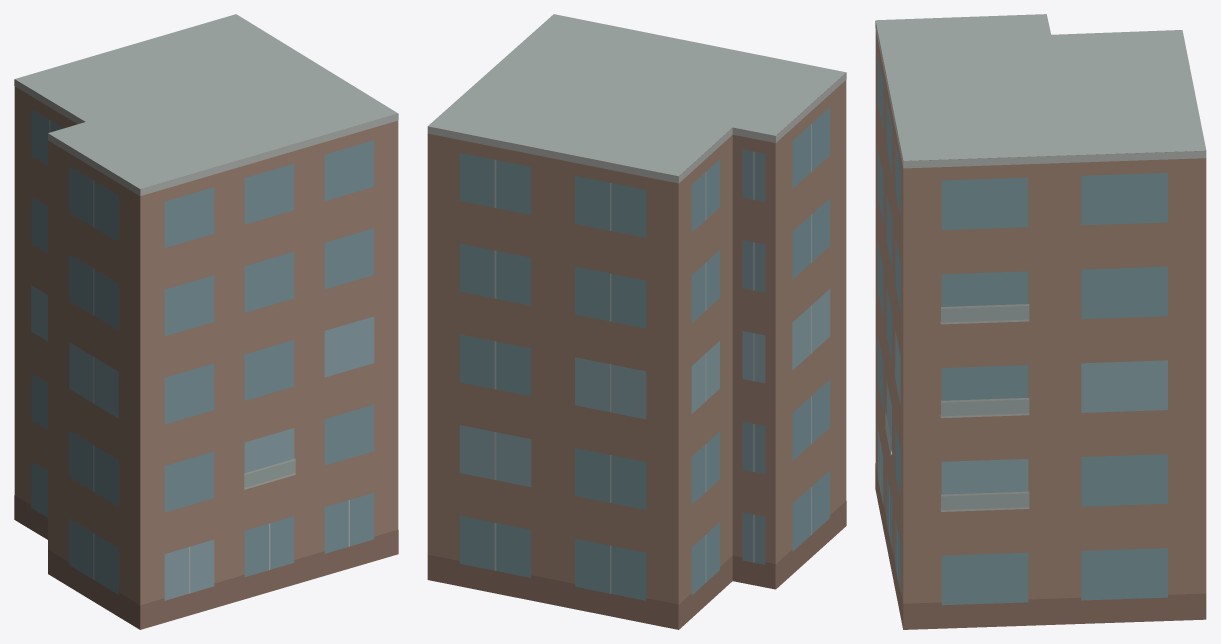
Rendered from survey-upis-32947378.glb.
3 views of the same model, side by side, from view 1: azimuth 30°, elevation 25°; view 2: azimuth 150°, elevation 25°; view 3: azimuth 270°, elevation 25° (orthographic). The views are drawn at different scales.
Visible parts, largest first — view 1: survey-upis-32947378.tmp; view 2: survey-upis-32947378.tmp; view 3: survey-upis-32947378.tmp.
Part boxes in pixels (x1,y1,x2,y2): survey-upis-32947378.tmp: [14, 14, 398, 629]; survey-upis-32947378.tmp: [427, 14, 846, 629]; survey-upis-32947378.tmp: [875, 14, 1206, 629].
Bounding box in the file's own units: 10.29 × 15.3 × 9.8.
